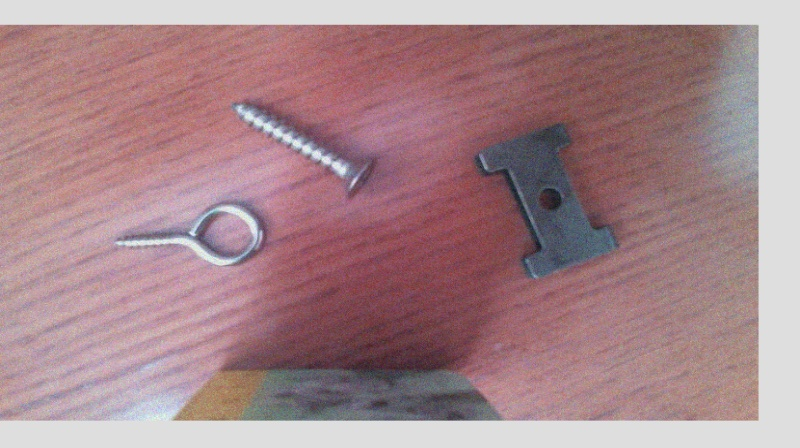O001: (109, 200, 267, 270)
O002: (472, 119, 624, 285)
S001: (222, 96, 382, 202)
